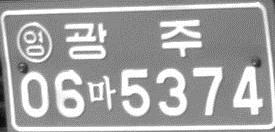0: (19, 71, 49, 119)
3: (155, 67, 188, 117)
4: (231, 66, 263, 115)
5: (119, 68, 150, 118)
6: (54, 69, 85, 118)
7: (191, 66, 223, 116)
광주_D: (63, 19, 203, 61)
마: (87, 74, 116, 111)
영: (15, 20, 52, 64)
